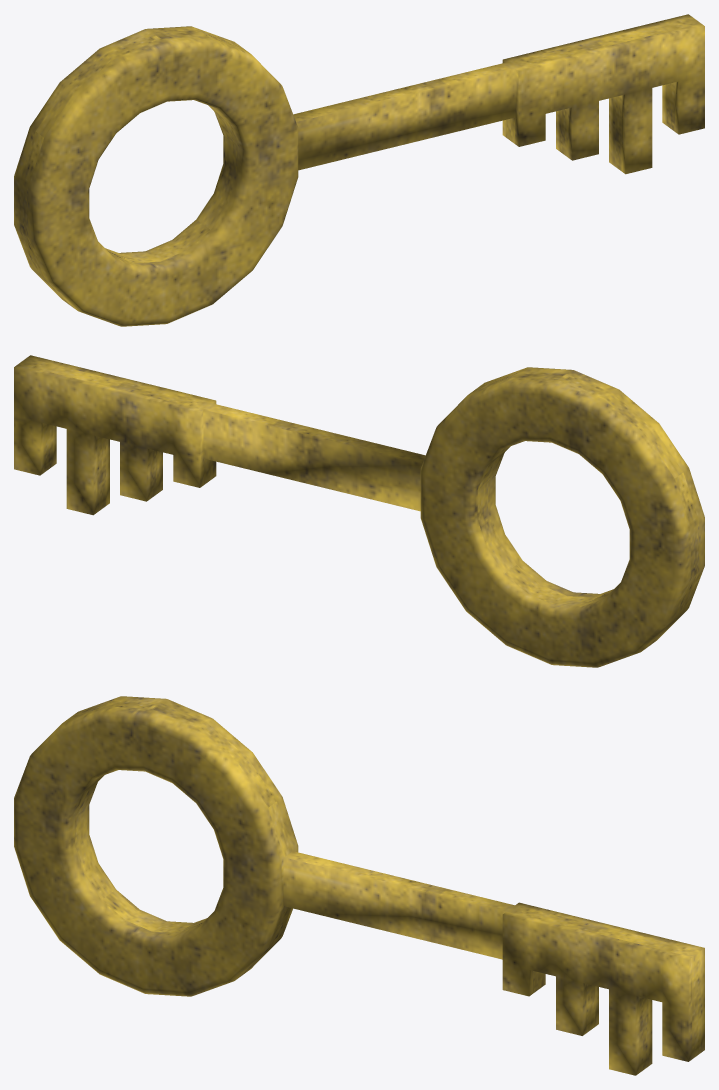
Rendered from llave.obj.
The picture shows the model from 3 angles, top to bottom: view 1: azimuth 30°, elevation 25°; view 2: azimuth 150°, elevation 25°; view 3: azimuth 330°, elevation 25°; orthographic projection.
Visible parts, largest first — view 1: Llave; view 2: Llave; view 3: Llave.
Part boxes in pixels (box(x1,y1,x2,y2)): Llave: box(14, 14, 704, 326); Llave: box(14, 355, 704, 667); Llave: box(14, 696, 704, 1075).
Bounding box in the file's own units: 2.46 × 0.9824 × 0.165.
1 material, 1 textured.
